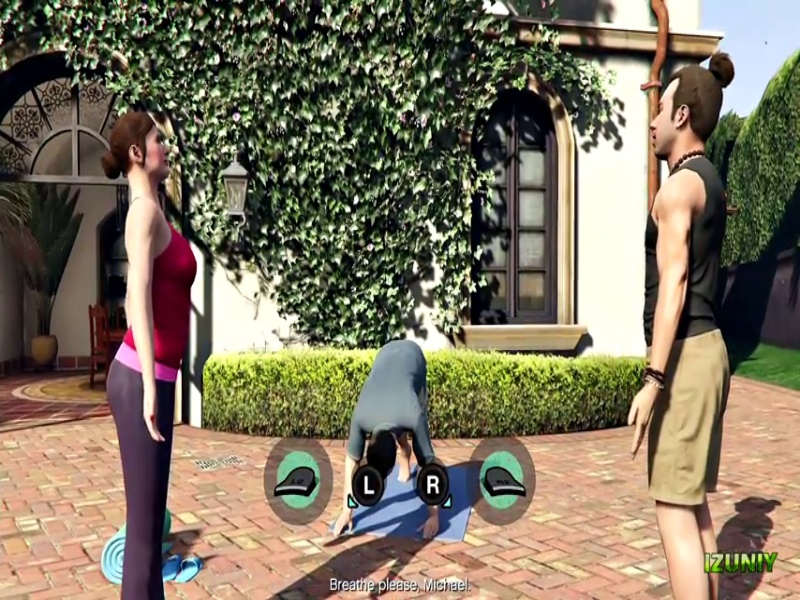human: (92, 117, 197, 600)
